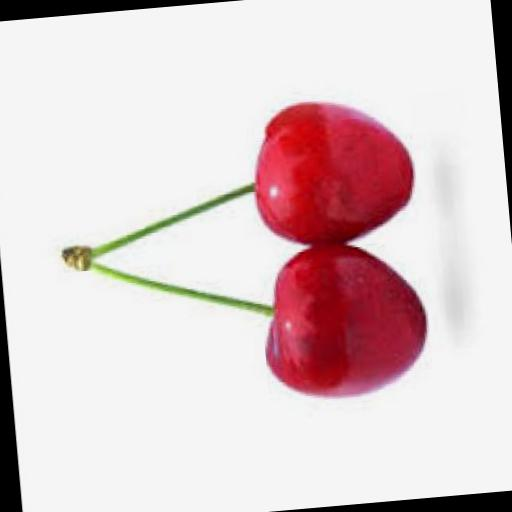biodegradable: (47, 94, 434, 426), (250, 236, 434, 407), (243, 94, 420, 252)
